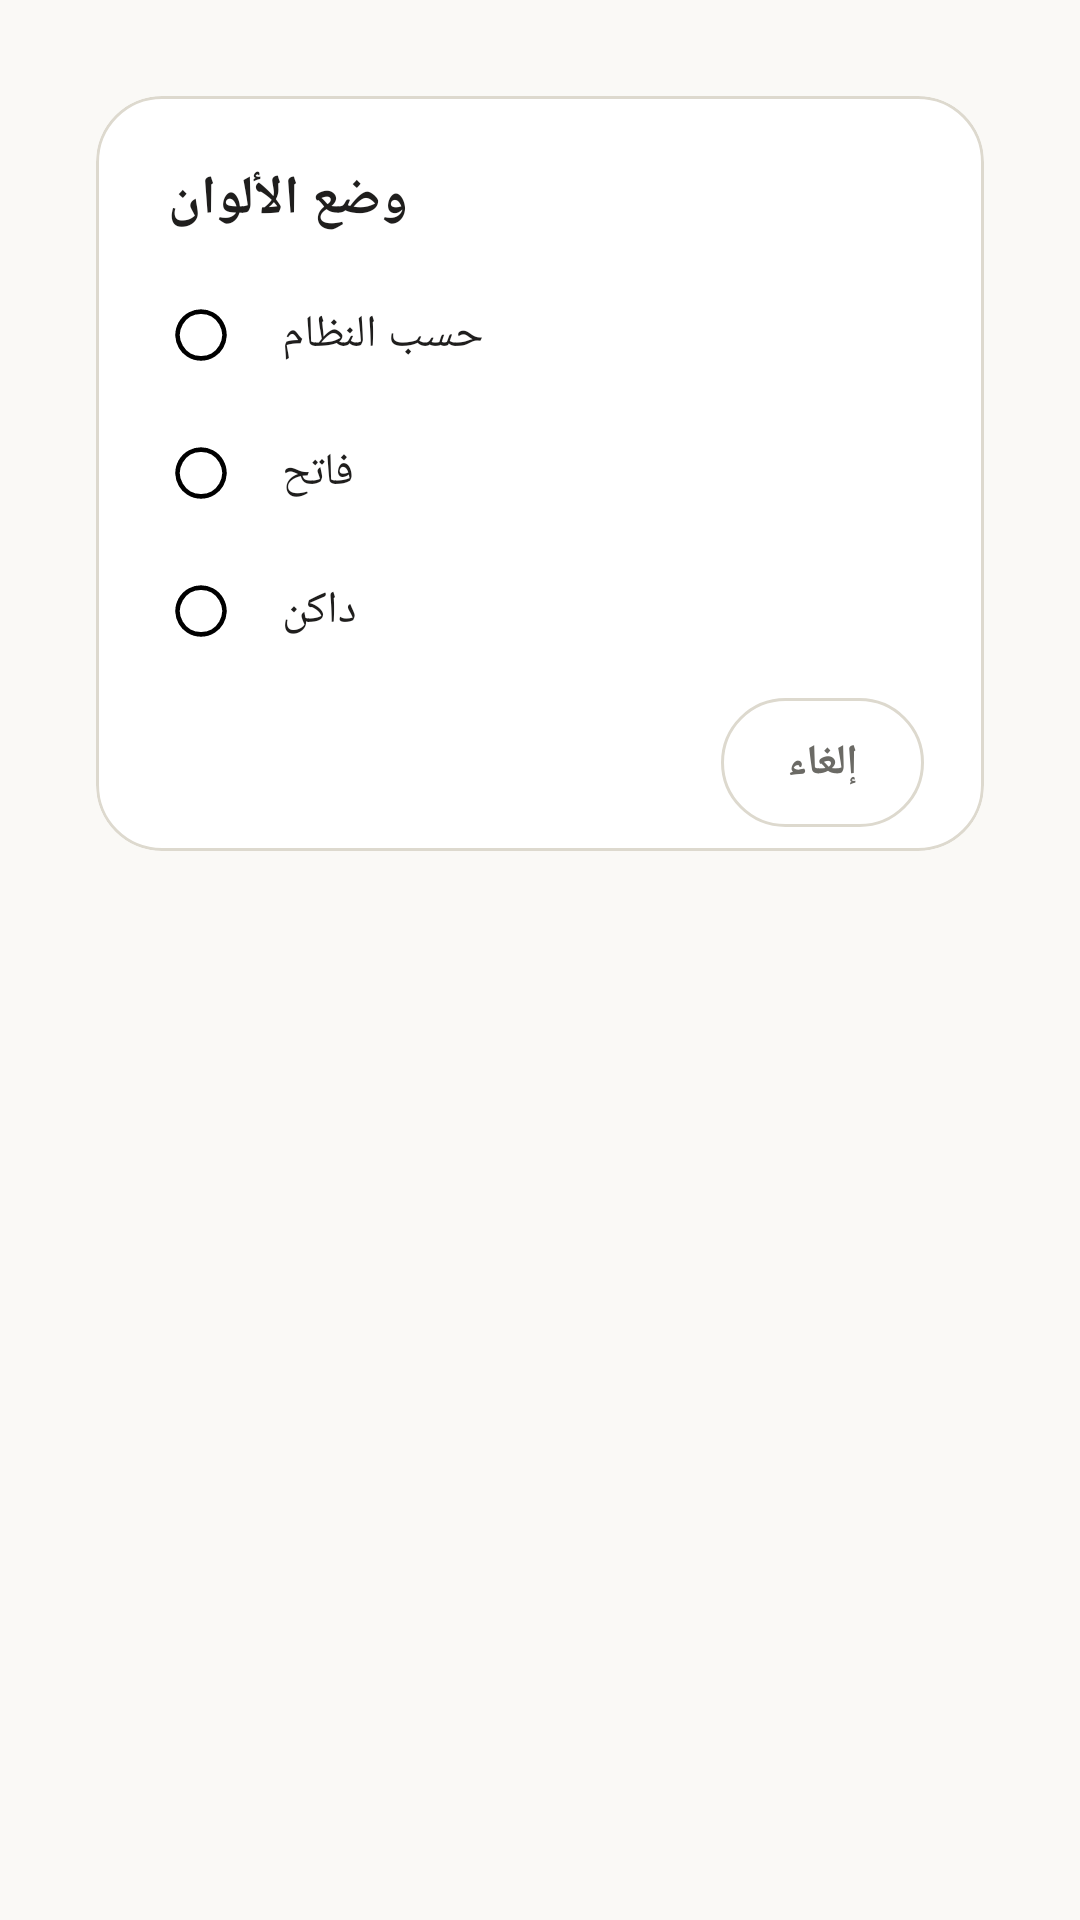

Icon bounding boxes for this 1080×1920 phone screenshot, format (x1, y1, x2, y2):
radio: (175, 309, 227, 361), (175, 447, 227, 499), (175, 585, 227, 637)
